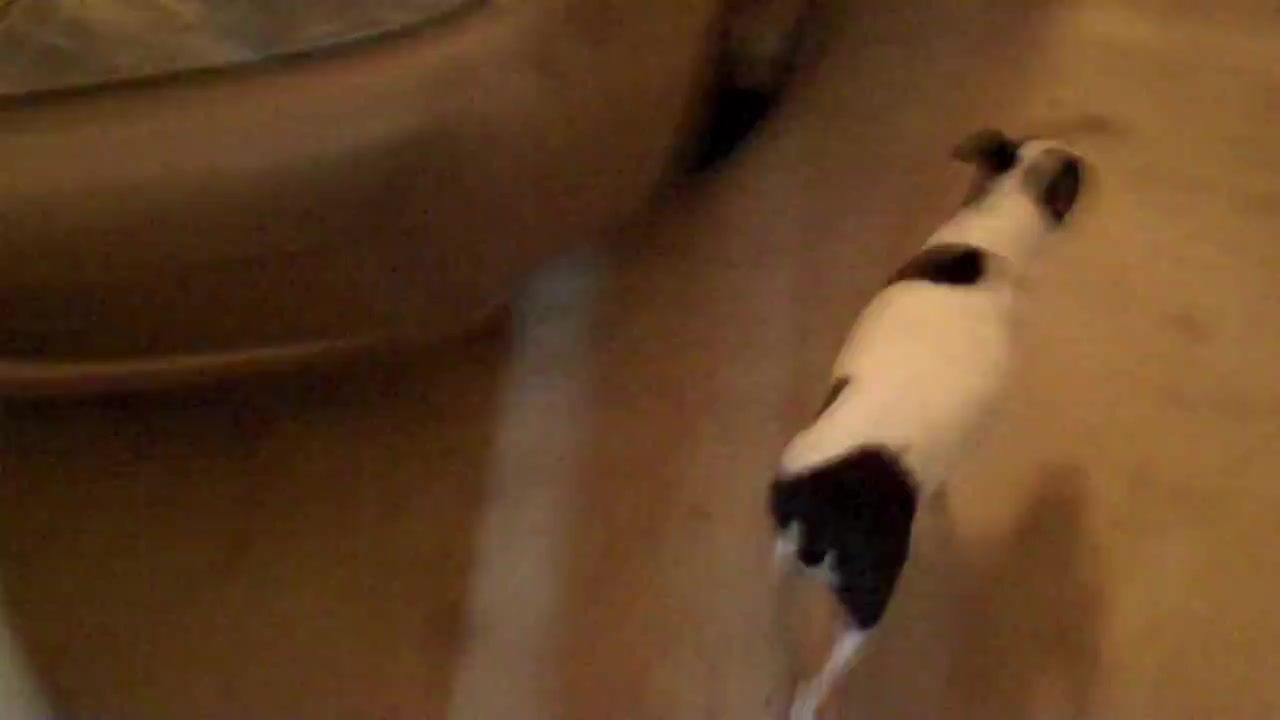dog: (763, 131, 1103, 720)
